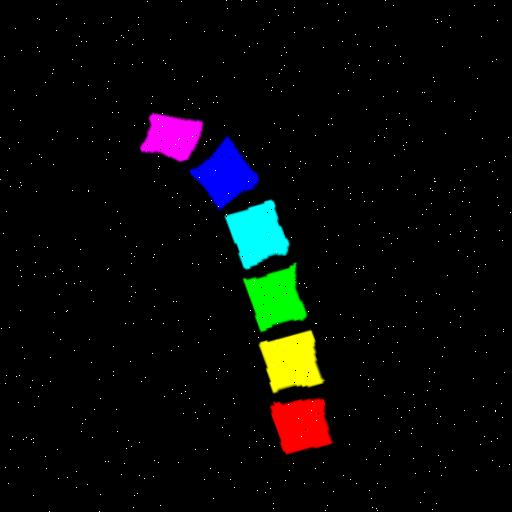L1: (263, 394, 323, 449)
L2: (251, 326, 314, 389)
L3: (237, 261, 300, 328)
L4: (221, 198, 283, 265)
L5: (185, 135, 255, 206)
S1: (136, 111, 199, 159)
